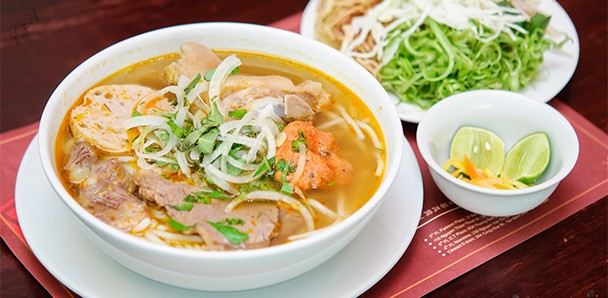beef: (133, 170, 278, 247), (68, 141, 145, 227)
chamoc: (72, 76, 170, 150)
onion: (166, 124, 260, 170)
pork: (170, 42, 321, 115)
tofu: (277, 125, 349, 190)
